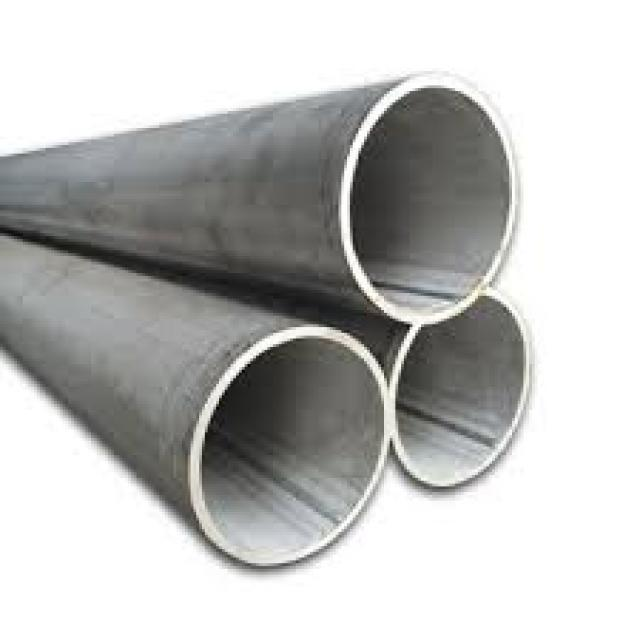pipe: (188, 326, 388, 567), (340, 75, 516, 326), (397, 296, 530, 488)
